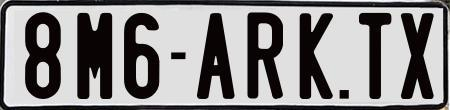6: (123, 11, 160, 100)
8: (25, 12, 63, 103)
A: (196, 11, 239, 98)
K: (297, 12, 336, 104)
M: (74, 13, 111, 104)
R: (246, 10, 287, 97)
T: (358, 13, 392, 99)
X: (399, 10, 432, 101)
